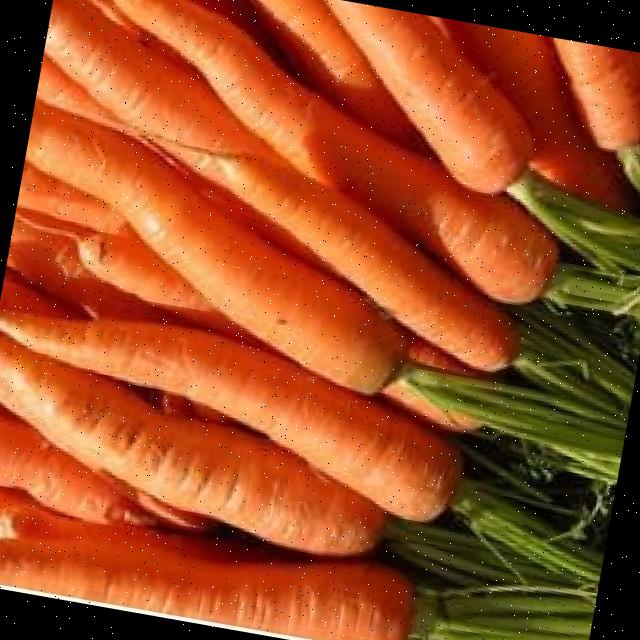carrot: (146, 0, 556, 297), (24, 101, 406, 392), (0, 305, 458, 520), (0, 334, 380, 554), (177, 145, 515, 369), (0, 491, 412, 640), (325, 0, 532, 190), (121, 0, 195, 55)
